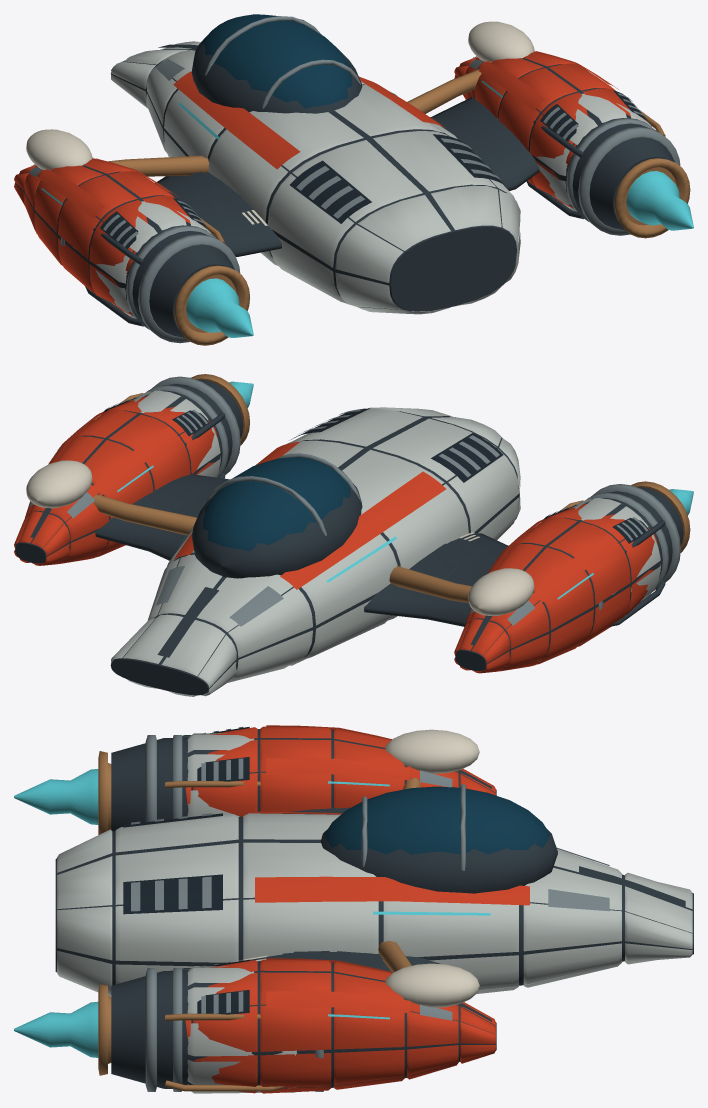
Rendered from rook.glb.
The picture shows the model from 3 angles, top to bottom: view 1: azimuth 30°, elevation 25°; view 2: azimuth 150°, elevation 25°; view 3: azimuth 270°, elevation 25°; orthographic projection. The views are drawn at different scales.
Parts seen in each view (by area): view 1: rook; view 2: rook; view 3: rook.
Part boxes in pixels (x1,y1,x2,y2): rook: (14,14,693,345); rook: (14,374,693,696); rook: (14,725,693,1093).
Size of the model in its own units: 6.1 by 1.88 by 6.09.
